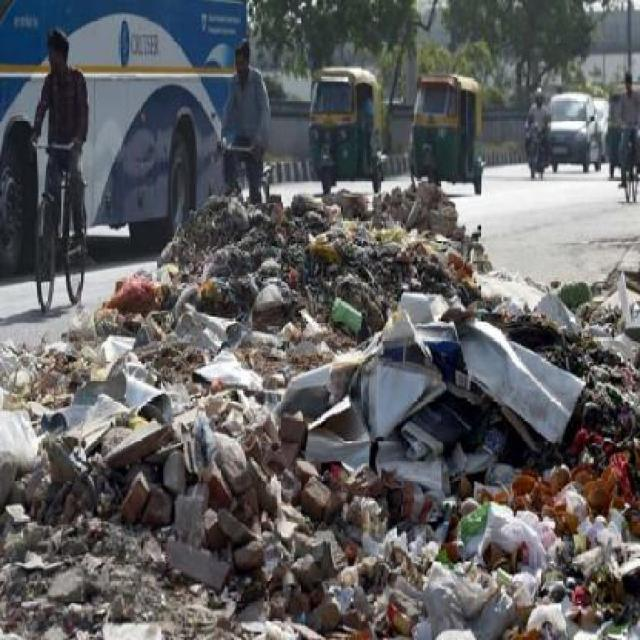garbage: (20, 336, 589, 585), (166, 191, 468, 327)
